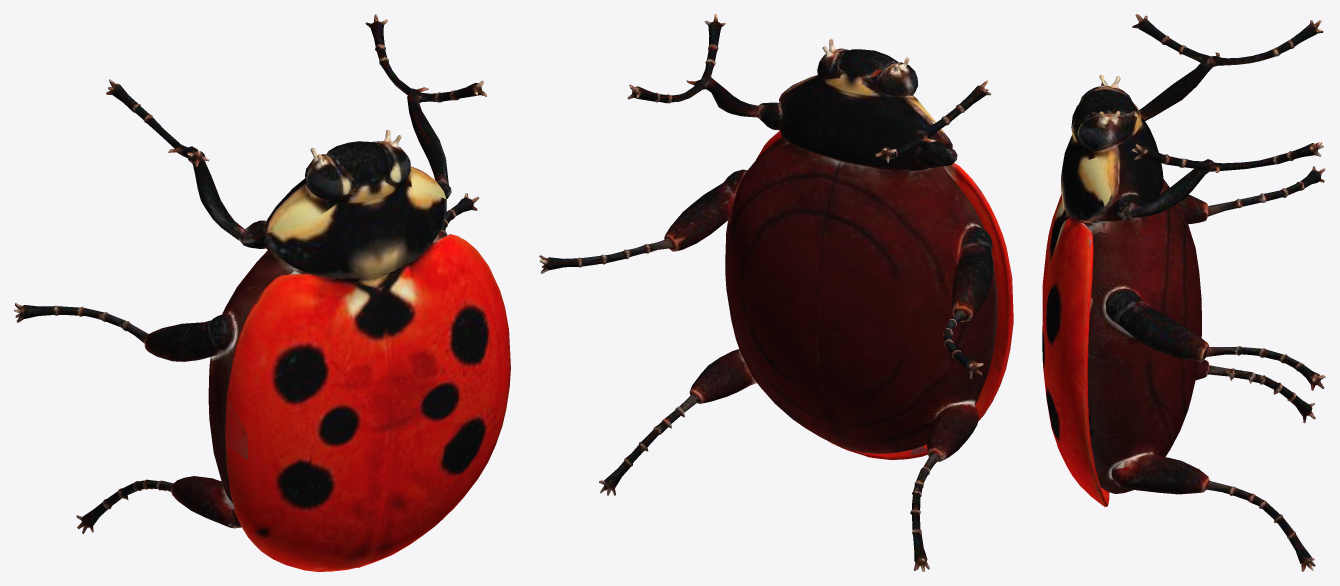
The model's file is ladybug.glb.
3 renders of one model, left to right at view 1: azimuth 30°, elevation 25°; view 2: azimuth 150°, elevation 25°; view 3: azimuth 270°, elevation 25°, orthographic. The views are drawn at different scales.
Parts seen in each view (by area): view 1: ladybug; view 2: ladybug; view 3: ladybug.
Part boxes in pixels (x1,y1,x2,y2): ladybug: [14, 14, 510, 571]; ladybug: [539, 14, 1013, 571]; ladybug: [1042, 14, 1325, 571].
Bounding box in the file's own units: 1 × 0.9104 × 0.561.
Materials: 1 (1 with a texture image).
